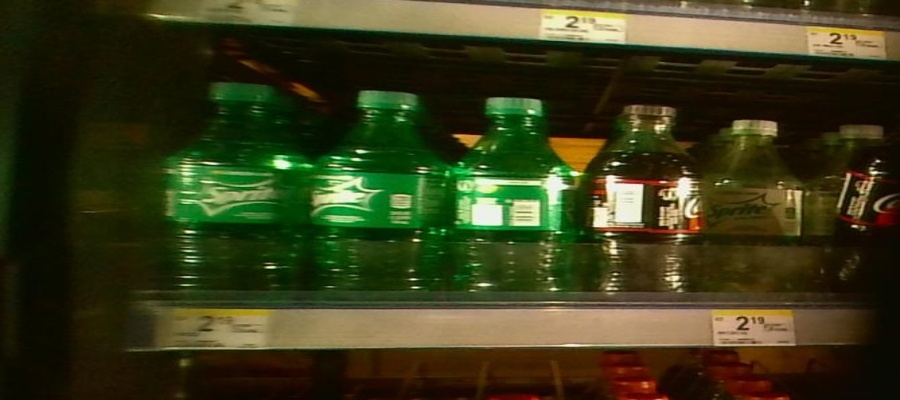bottle: (311, 72, 451, 304), (163, 77, 306, 298), (454, 66, 578, 304), (580, 85, 705, 302), (705, 106, 803, 305), (804, 125, 893, 305)
